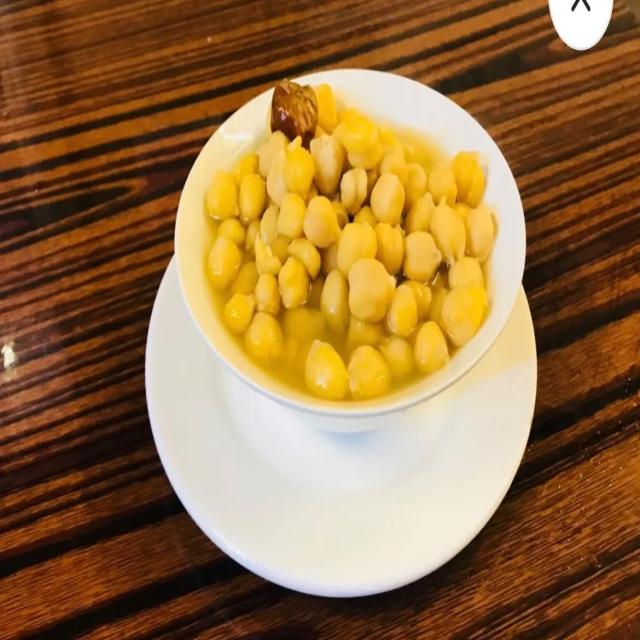Nakhi: (202, 78, 500, 404)
